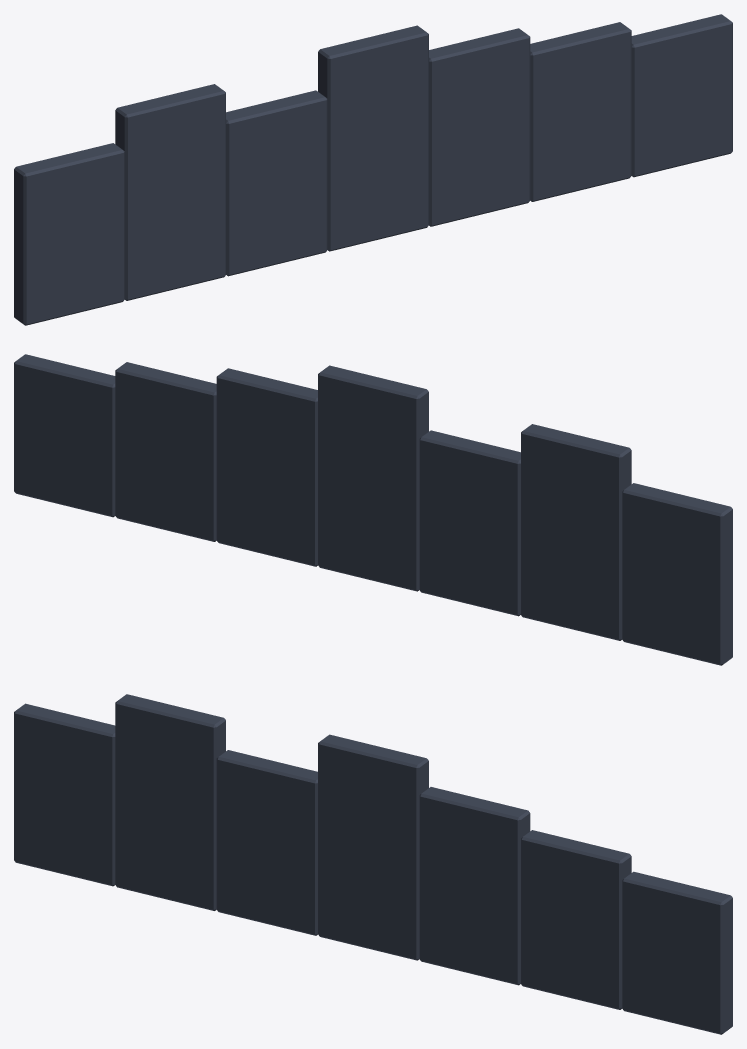
File: Wall_7m.fbx
The picture shows the model from 3 angles, top to bottom: view 1: azimuth 30°, elevation 25°; view 2: azimuth 150°, elevation 25°; view 3: azimuth 330°, elevation 25°; orthographic projection.
Parts seen in each view (by area): view 1: Wall; view 2: Wall; view 3: Wall.
Boxes of the visible parts, <box> form: Wall: <box>14,14,732,325</box>; Wall: <box>14,354,732,665</box>; Wall: <box>14,694,732,1034</box>.
Size of the model in its own units: 7 by 1.84 by 0.2.
